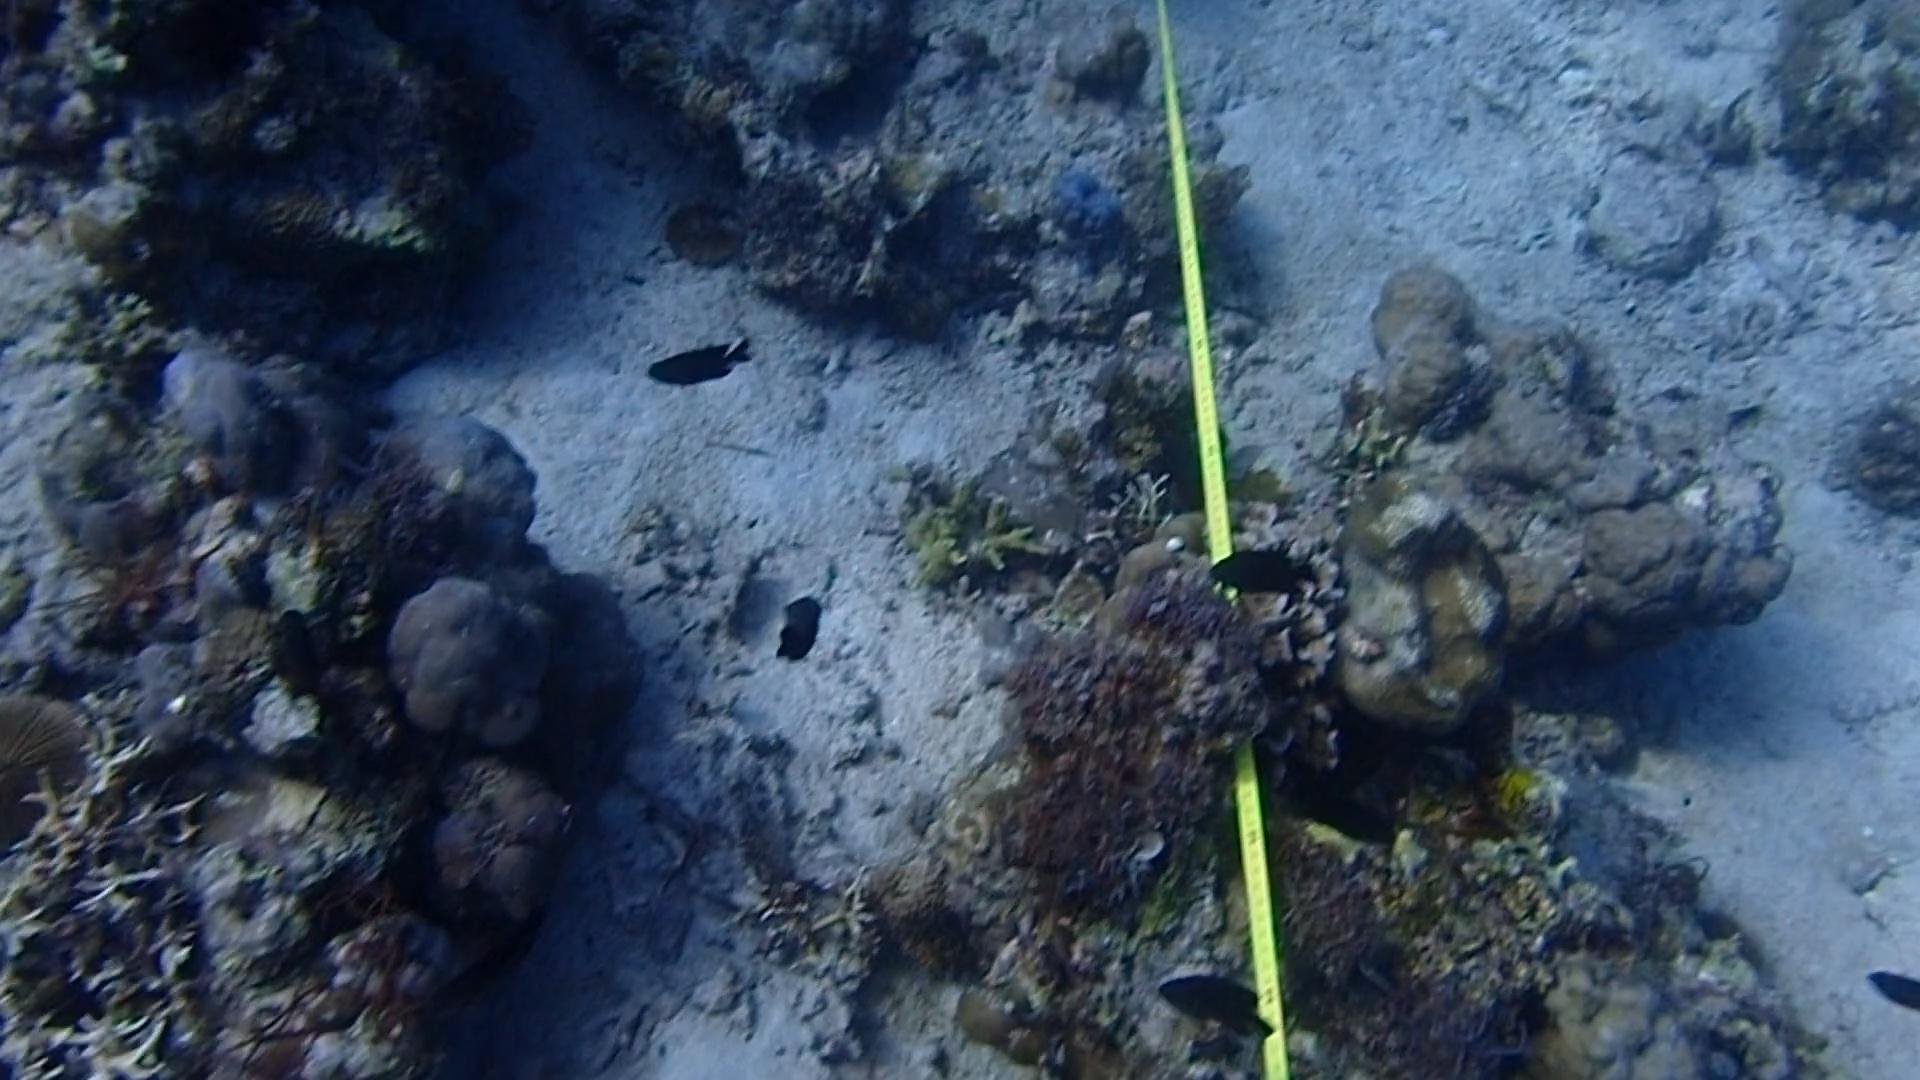Dark Fish: (407, 909, 550, 1005), (1150, 960, 1276, 1052), (1269, 770, 1387, 861), (1203, 538, 1331, 613), (630, 340, 762, 398), (265, 600, 328, 715), (775, 585, 837, 661), (1870, 965, 1920, 1023)
Light Fish: (1713, 91, 1756, 137)
